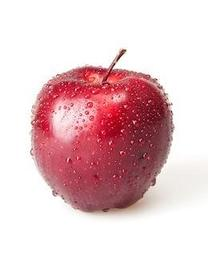apple: (30, 60, 174, 212)
